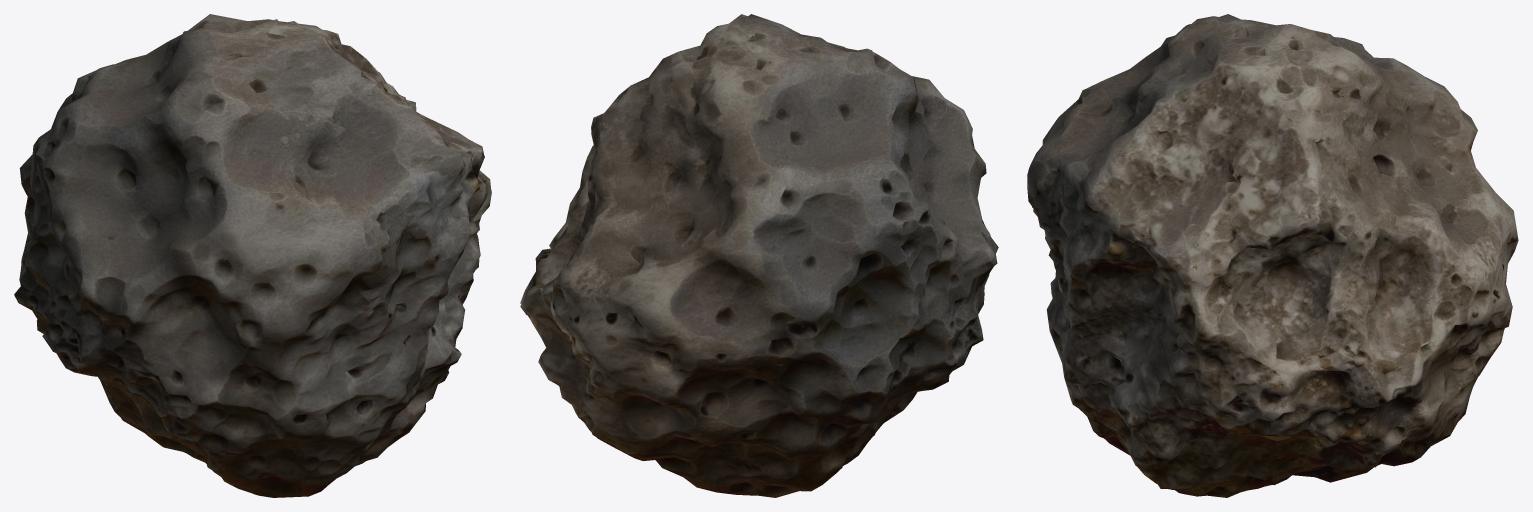
The model's file is asteroid.glb.
3 renders of one model, left to right at view 1: azimuth 30°, elevation 25°; view 2: azimuth 150°, elevation 25°; view 3: azimuth 270°, elevation 25°, orthographic. The views are drawn at different scales.
Visible parts, largest first — view 1: tripo_node_e4f98ae1-9f4c-48bc-9ad3-09f69e0e5ae6; view 2: tripo_node_e4f98ae1-9f4c-48bc-9ad3-09f69e0e5ae6; view 3: tripo_node_e4f98ae1-9f4c-48bc-9ad3-09f69e0e5ae6.
Part boxes in pixels (<box>): tripo_node_e4f98ae1-9f4c-48bc-9ad3-09f69e0e5ae6: <box>14,14,491,497</box>; tripo_node_e4f98ae1-9f4c-48bc-9ad3-09f69e0e5ae6: <box>520,14,998,497</box>; tripo_node_e4f98ae1-9f4c-48bc-9ad3-09f69e0e5ae6: <box>1027,14,1518,497</box>.
Size of the model in its own units: 0.9843 by 0.9922 by 0.9961.
1 material, 1 textured.
